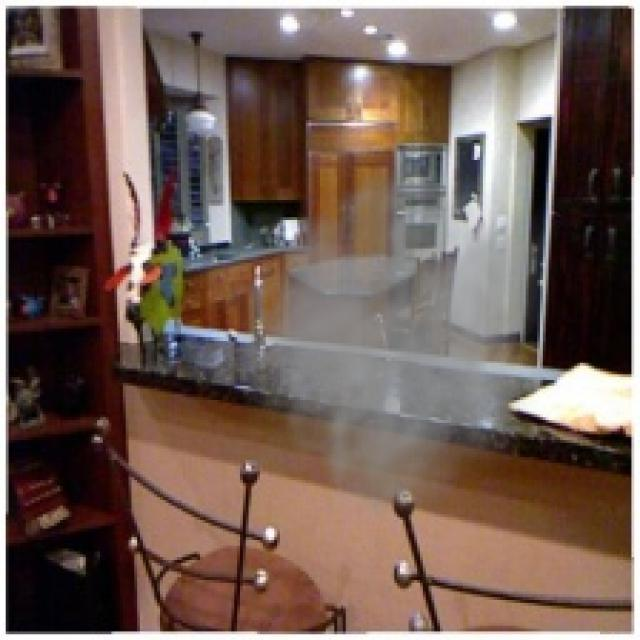Smoke: (202, 135, 548, 534)
